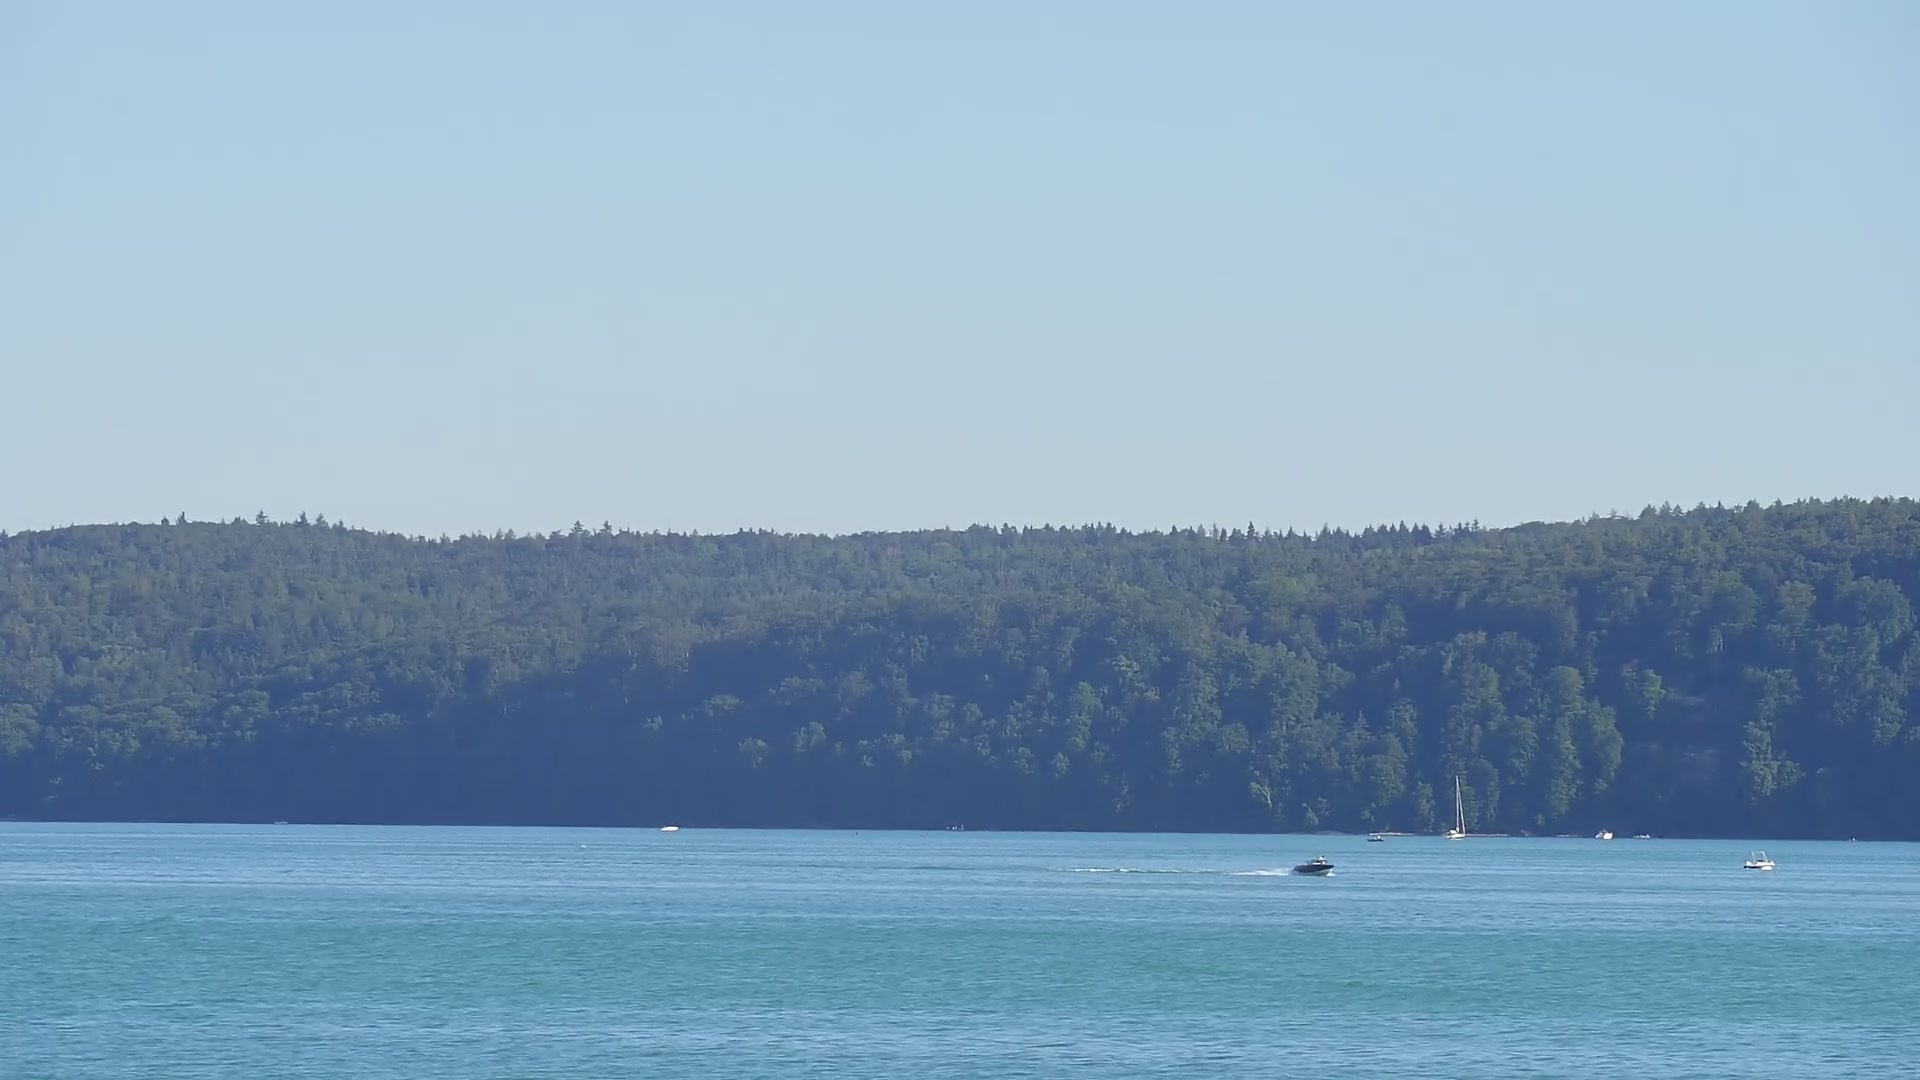sea: (1444, 774, 1465, 840), (1292, 855, 1336, 874), (1743, 849, 1774, 872), (1592, 829, 1613, 840), (1366, 833, 1385, 841), (659, 824, 679, 831), (1634, 833, 1652, 839), (274, 820, 287, 825), (1849, 835, 1855, 843)
